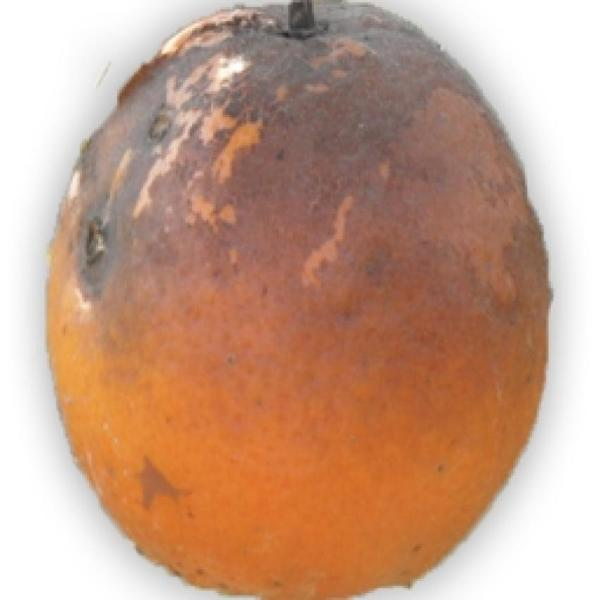Canker: (32, 0, 578, 599)
